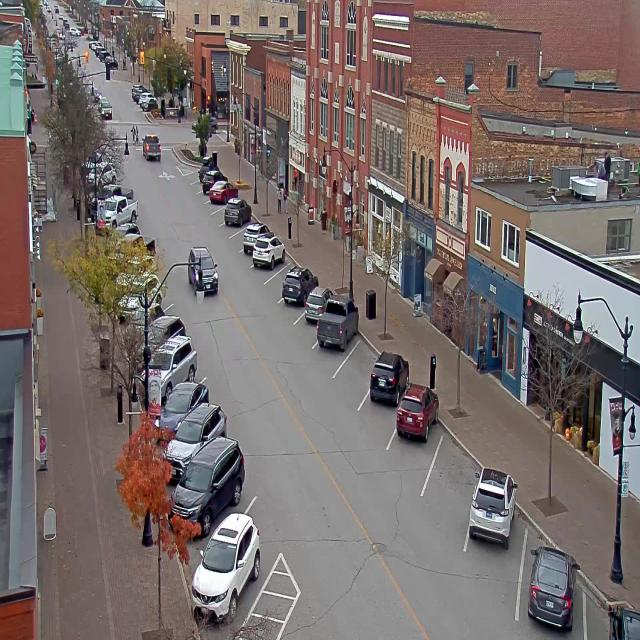available: (428, 423, 484, 509), (342, 332, 380, 386), (264, 255, 290, 296), (228, 224, 248, 255), (208, 201, 226, 226), (184, 166, 202, 183)
occupied: (169, 435, 245, 538), (193, 509, 265, 604), (527, 545, 579, 631), (468, 466, 518, 548), (165, 400, 232, 449), (154, 380, 208, 440), (153, 332, 202, 387), (396, 378, 434, 448), (588, 588, 639, 639), (316, 296, 358, 352), (368, 350, 409, 406), (282, 264, 318, 305), (252, 232, 285, 269), (303, 285, 326, 328), (224, 197, 252, 227), (212, 179, 239, 204), (200, 168, 225, 193), (242, 224, 266, 250), (198, 156, 213, 181)
